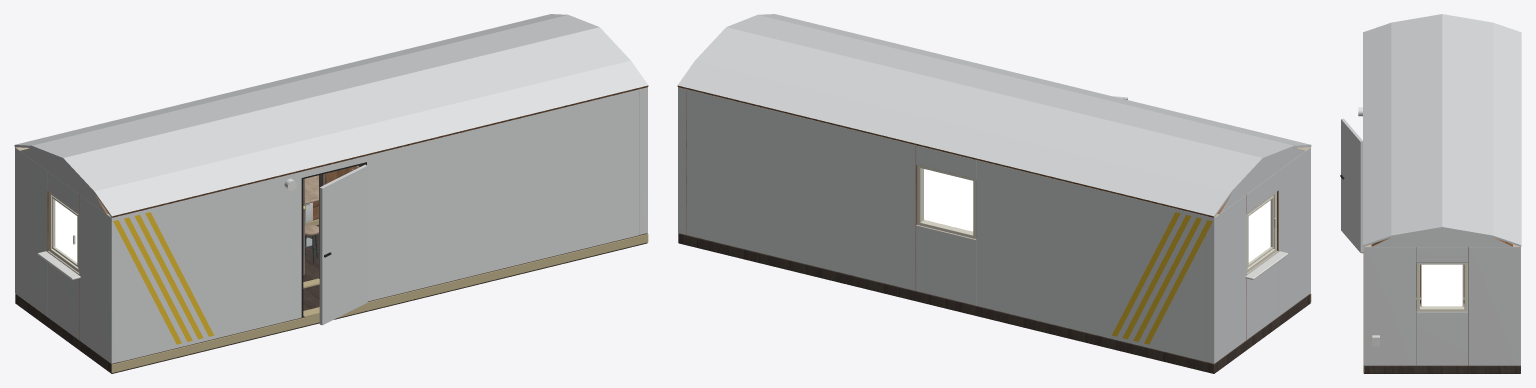
File: vagon_sibir2.glb
3 views of the same model, side by side, from view 1: azimuth 30°, elevation 25°; view 2: azimuth 150°, elevation 25°; view 3: azimuth 270°, elevation 25° (orthographic). The views are drawn at different scales.
Visible parts, largest first — view 1: Потолок • скаты, Передняя стена справа, Передняя стена слева, Входная дверь, Торец • простенок, Торец • простенок.001, Кромка пола спереди, Пол • 8000 × 2500, Торец • под окном, Торец • простенок.002, Фронтон, Окно слева • стекло (+5 smaller); view 2: Потолок • скаты, Задняя стена справа, Задняя стена слева, Пол • 8000 × 2500, Торец • простенок.001, Торец • простенок, Под окном столовой, Окно столовой • стекло, Торец • под окном, Торец • простенок.003, Фронтон, Над окном столовой (+6 smaller); view 3: Потолок • скаты, Торец • простенок.002, Торец • простенок.003, Торец • под окном.001, Входная дверь, Окно справа • стекло, Фронтон.001, Пол • 8000 × 2500, Торец • над окном.001, Окно справа • рама.002, Окно справа • рама, Окно справа • рама.001.
Part boxes in pixels (x1=…): Потолок • скаты: x1=14, y1=14, x2=648, y2=217; Передняя стена справа: x1=360, y1=89, x2=639, y2=301; Передняя стена слева: x1=120, y1=171, x2=302, y2=361; Входная дверь: x1=319, y1=165, x2=367, y2=325; Торец • простенок: x1=79, y1=194, x2=120, y2=363; Торец • простенок.001: x1=15, y1=147, x2=48, y2=316; Кромка пола спереди: x1=111, y1=234, x2=648, y2=372; Пол • 8000 × 2500: x1=15, y1=224, x2=647, y2=373; Торец • под окном: x1=47, y1=251, x2=79, y2=339; Торец • простенок.002: x1=639, y1=87, x2=647, y2=234; Фронтон: x1=20, y1=148, x2=108, y2=214; Окно слева • стекло: x1=55, y1=200, x2=77, y2=262; Потолок • скаты: x1=677, y1=14, x2=1311, y2=217; Задняя стена справа: x1=686, y1=89, x2=916, y2=290; Задняя стена слева: x1=976, y1=160, x2=1205, y2=361; Пол • 8000 × 2500: x1=678, y1=233, x2=1310, y2=373; Торец • простенок.001: x1=1205, y1=194, x2=1246, y2=363; Торец • простенок: x1=1277, y1=147, x2=1310, y2=316; Под окном столовой: x1=916, y1=225, x2=976, y2=305; Окно столовой • стекло: x1=924, y1=169, x2=973, y2=231; Торец • под окном: x1=1246, y1=251, x2=1278, y2=339; Торец • простенок.003: x1=678, y1=87, x2=686, y2=234; Фронтон: x1=1217, y1=148, x2=1305, y2=214; Над окном столовой: x1=916, y1=145, x2=976, y2=179; Потолок • скаты: x1=1363, y1=14, x2=1521, y2=246; Торец • простенок.002: x1=1363, y1=244, x2=1416, y2=365; Торец • простенок.003: x1=1468, y1=244, x2=1520, y2=365; Торец • под окном.001: x1=1416, y1=309, x2=1467, y2=365; Входная дверь: x1=1341, y1=118, x2=1363, y2=252; Окно справа • стекло: x1=1421, y1=264, x2=1462, y2=306; Фронтон.001: x1=1371, y1=228, x2=1512, y2=246; Пол • 8000 × 2500: x1=1363, y1=300, x2=1520, y2=373; Торец • над окном.001: x1=1416, y1=247, x2=1467, y2=262; Окно справа • рама.002: x1=1419, y1=306, x2=1465, y2=311; Окно справа • рама: x1=1416, y1=263, x2=1419, y2=311; Окно справа • рама.001: x1=1464, y1=263, x2=1467, y2=311.
Size of the model in its own units: 8.21 by 2.58 by 2.88.
Materials: 42 (7 with a texture image).
